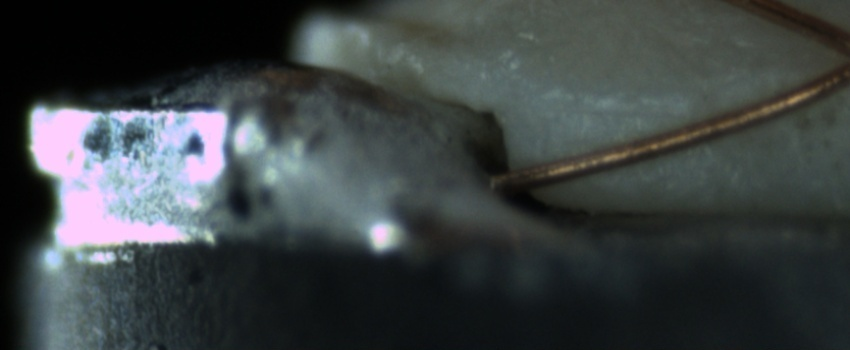CL: (807, 19, 850, 94)
DL: (555, 80, 696, 140)
